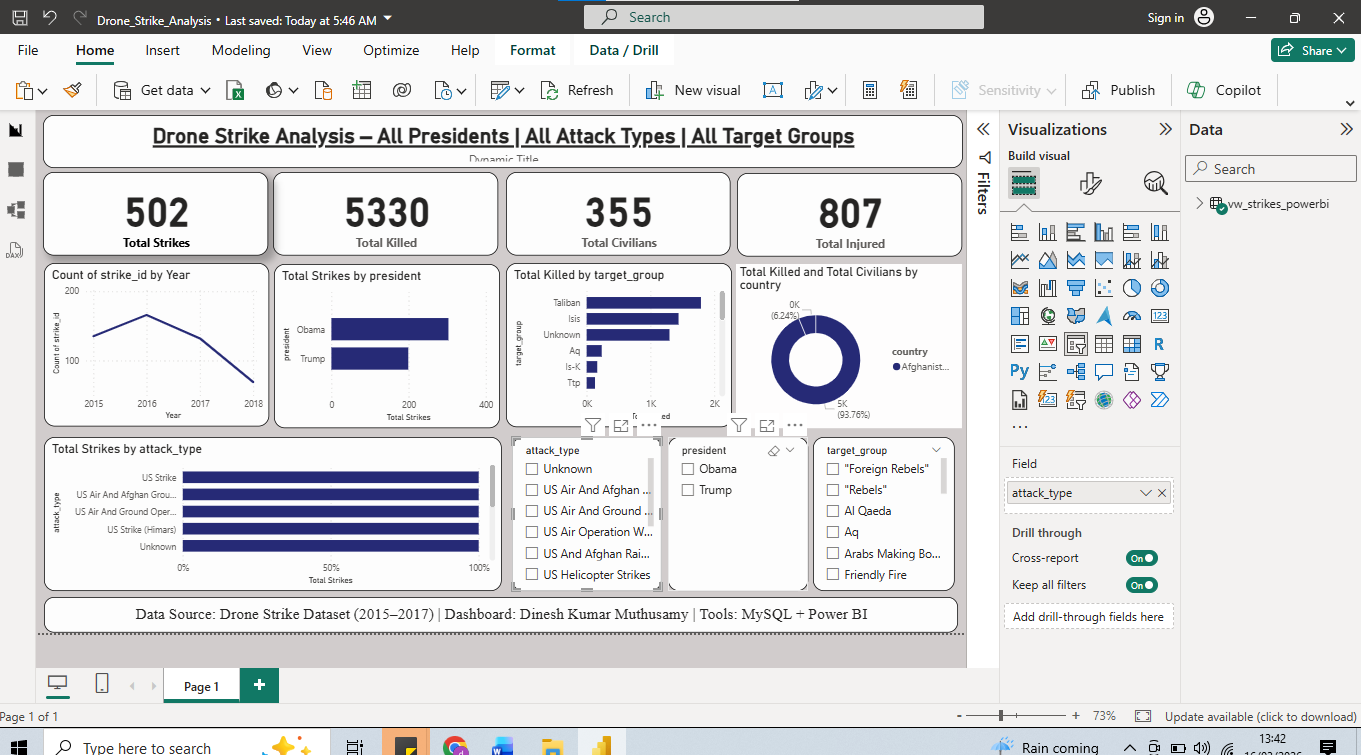

This screenshot's page, from the dashboard's own definition file:
{"tool":"powerbi","page":{"name":"Page 1","canvas":[1280,720],"ordinal":0},"visuals":[{"type":"card","fields":{"Values":["vw_strikes_powerbi.Total Killed"]},"box":[325.6,85.1,310,115],"z":0},{"type":"card","fields":{"Values":["vw_strikes_powerbi.Total Strikes"]},"box":[9,85.1,310,115],"z":1000},{"type":"card","fields":{"Values":["vw_strikes_powerbi.Total Civilians"]},"box":[646.7,85.1,309.2,115],"z":2000},{"type":"card","fields":{"Values":["vw_strikes_powerbi.Total Injured"]},"box":[964.9,86.6,310,115],"z":3000},{"type":"barChart","fields":{"Category":["vw_strikes_powerbi.president"],"Y":["vw_strikes_powerbi.Total Strikes"]},"box":[327.1,212.1,310.7,225.5],"z":4000},{"type":"lineChart","fields":{"Category":["vw_strikes_powerbi.strike_date.Variation.Date Hierarchy.Year"],"Y":["CountNonNull(vw_strikes_powerbi.strike_id)"]},"box":[10.5,210.6,310,225],"z":5000},{"type":"hundredPercentStackedBarChart","fields":{"Category":["vw_strikes_powerbi.attack_type"],"Y":["vw_strikes_powerbi.Total Strikes"]},"box":[10.5,450,630.3,212.1],"z":6000},{"type":"clusteredBarChart","fields":{"Category":["vw_strikes_powerbi.target_group"],"Y":["vw_strikes_powerbi.Total Killed"]},"box":[646.7,210.6,310.7,225.5],"z":7000},{"type":"donutChart","fields":{"Y":["vw_strikes_powerbi.Total Killed","vw_strikes_powerbi.Total Civilians"],"Category":["vw_strikes_powerbi.country"]},"box":[963.4,212.1,310.7,225.5],"z":8000},{"type":"slicer","fields":{"Values":["vw_strikes_powerbi.attack_type"]},"box":[655,450,206.1,212.1],"z":9000},{"type":"slicer","fields":{"Values":["vw_strikes_powerbi.president"]},"box":[870,450,192.7,212.1],"z":10000},{"type":"slicer","fields":{"Values":["vw_strikes_powerbi.target_group"]},"box":[1070,450,194.5,212],"z":11000},{"type":"card","fields":{"Values":["vw_strikes_powerbi.Dynamic Title"]},"box":[10,7.2,1265.7,72.9],"z":12000},{"type":"textbox","box":[10.5,670.6,1257.6,49.3],"z":13000}]}

Visuals, with their boxes on the page's 1280x720 design canvas (x1, y1, x2, y2). These are canvas units, not pixel positions in the 1361x755 screenshot, which may show the page scaled, cropped or inside an application window:
card - vw_strikes_powerbi.Total Killed: {"left": 326, "top": 85, "right": 636, "bottom": 200}
card - vw_strikes_powerbi.Total Strikes: {"left": 9, "top": 85, "right": 319, "bottom": 200}
card - vw_strikes_powerbi.Total Civilians: {"left": 647, "top": 85, "right": 956, "bottom": 200}
card - vw_strikes_powerbi.Total Injured: {"left": 965, "top": 87, "right": 1275, "bottom": 202}
barChart - vw_strikes_powerbi.president x vw_strikes_powerbi.Total Strikes: {"left": 327, "top": 212, "right": 638, "bottom": 438}
lineChart - vw_strikes_powerbi.strike_date.Variation.Date Hierarchy.Year x CountNonNull(vw_strikes_powerbi.strike_id): {"left": 10, "top": 211, "right": 320, "bottom": 436}
hundredPercentStackedBarChart - vw_strikes_powerbi.attack_type x vw_strikes_powerbi.Total Strikes: {"left": 10, "top": 450, "right": 641, "bottom": 662}
clusteredBarChart - vw_strikes_powerbi.target_group x vw_strikes_powerbi.Total Killed: {"left": 647, "top": 211, "right": 957, "bottom": 436}
donutChart - vw_strikes_powerbi.Total Killed x vw_strikes_powerbi.Total Civilians: {"left": 963, "top": 212, "right": 1274, "bottom": 438}
slicer - vw_strikes_powerbi.attack_type: {"left": 655, "top": 450, "right": 861, "bottom": 662}
slicer - vw_strikes_powerbi.president: {"left": 870, "top": 450, "right": 1063, "bottom": 662}
slicer - vw_strikes_powerbi.target_group: {"left": 1070, "top": 450, "right": 1264, "bottom": 662}
card - vw_strikes_powerbi.Dynamic Title: {"left": 10, "top": 7, "right": 1276, "bottom": 80}
textbox: {"left": 10, "top": 671, "right": 1268, "bottom": 720}
